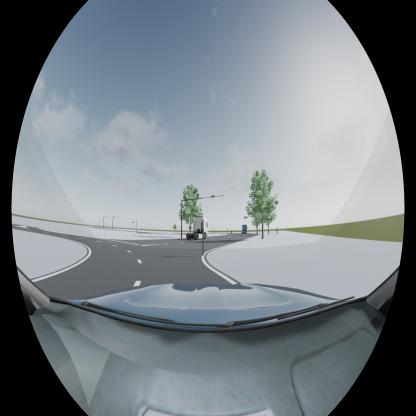Green Light: (244, 217, 248, 219)
Red Light: (211, 195, 215, 197), (194, 198, 198, 200)
